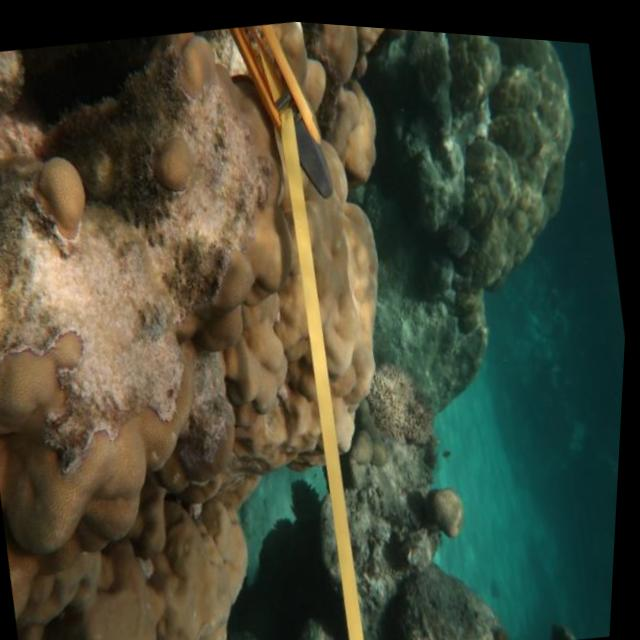Healthy Coral: (180, 12, 461, 466), (0, 389, 281, 640), (0, 320, 96, 434), (28, 146, 96, 243)
